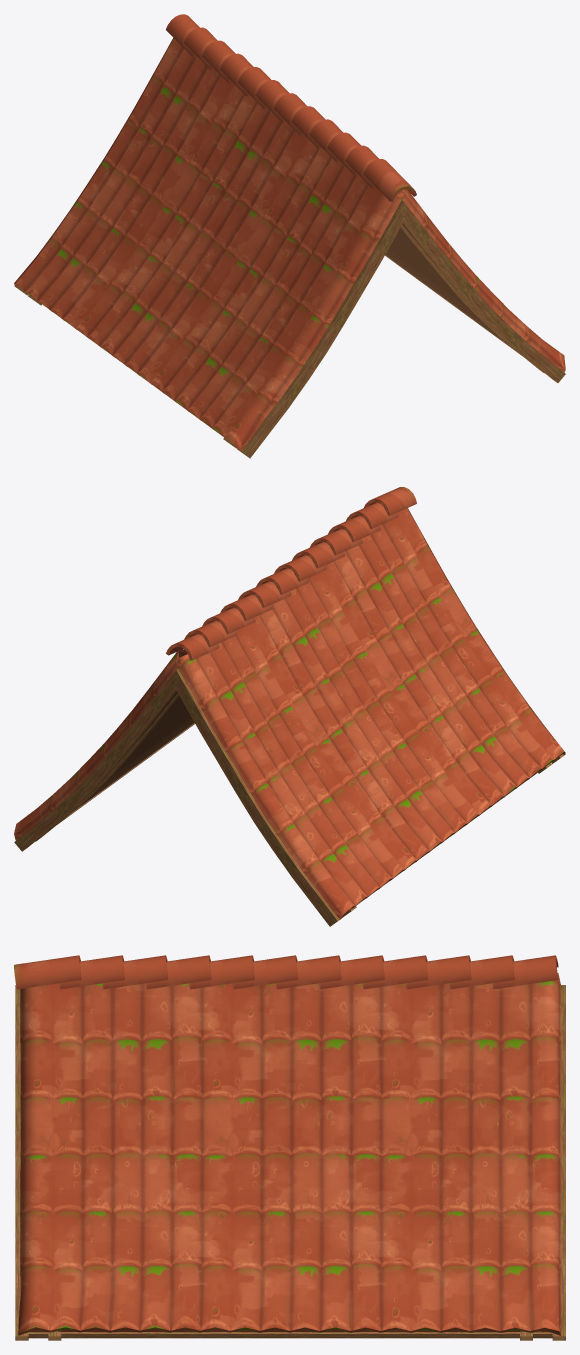
Rendered from Roof_RoundTiles_6x8.gltf.
3 renders of one model, top to bottom at view 1: azimuth 30°, elevation 25°; view 2: azimuth 150°, elevation 25°; view 3: azimuth 270°, elevation 25°, orthographic. The views are drawn at different scales.
Parts seen in each view (by area): view 1: Roof_RoundTiles_6x8; view 2: Roof_RoundTiles_6x8; view 3: Roof_RoundTiles_6x8.
Boxes of the visible parts, x1,y1,x2,y2 form: Roof_RoundTiles_6x8: (14,14,565,458); Roof_RoundTiles_6x8: (14,487,565,926); Roof_RoundTiles_6x8: (14,955,565,1340).
Size of the model in its own units: 8.25 by 5.67 by 9.68.
Materials: 2 (2 with a texture image).
